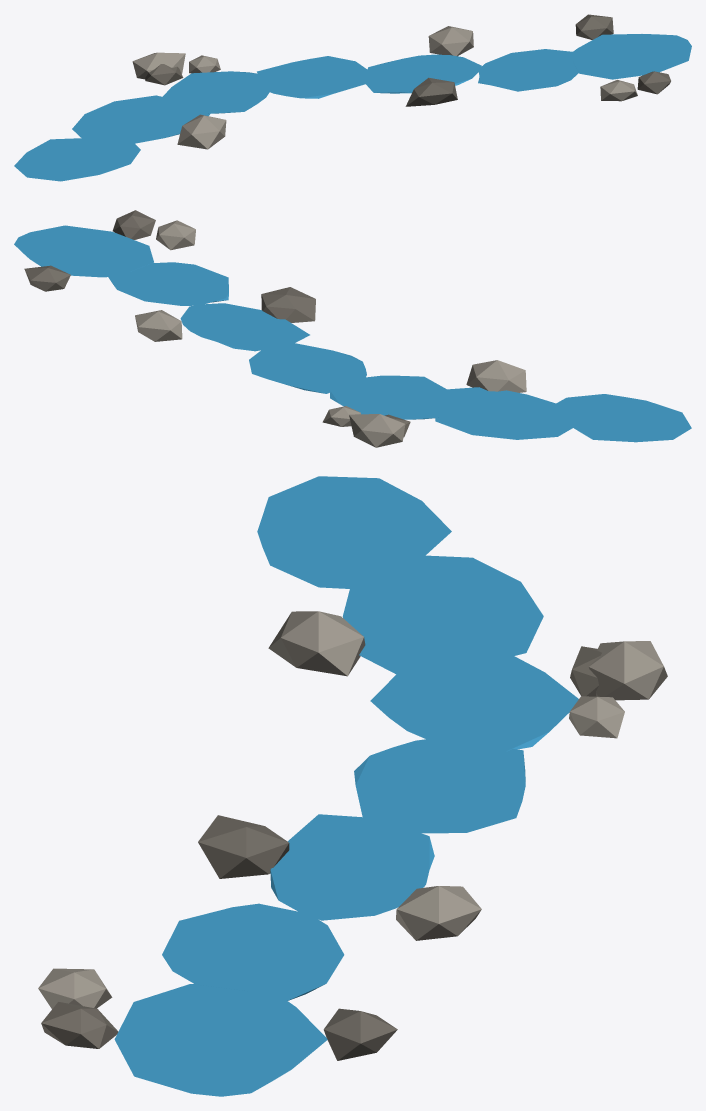
Rendered from HS_LP_Water_Stream_01.fbx.
3 views of the same model, one above another, from view 1: azimuth 30°, elevation 25°; view 2: azimuth 150°, elevation 25°; view 3: azimuth 270°, elevation 25° (orthographic). The views are drawn at different scales.
Parts seen in each view (by area): view 1: HS_LP_Water_Stream_01; view 2: HS_LP_Water_Stream_01; view 3: HS_LP_Water_Stream_01.
Boxes of the visible parts, left/top/right/bottom form: HS_LP_Water_Stream_01: left=14, top=14, right=691, bottom=181; HS_LP_Water_Stream_01: left=14, top=210, right=691, bottom=447; HS_LP_Water_Stream_01: left=38, top=476, right=667, bottom=1096.
Size of the model in its own units: 573 by 21.98 by 245.
